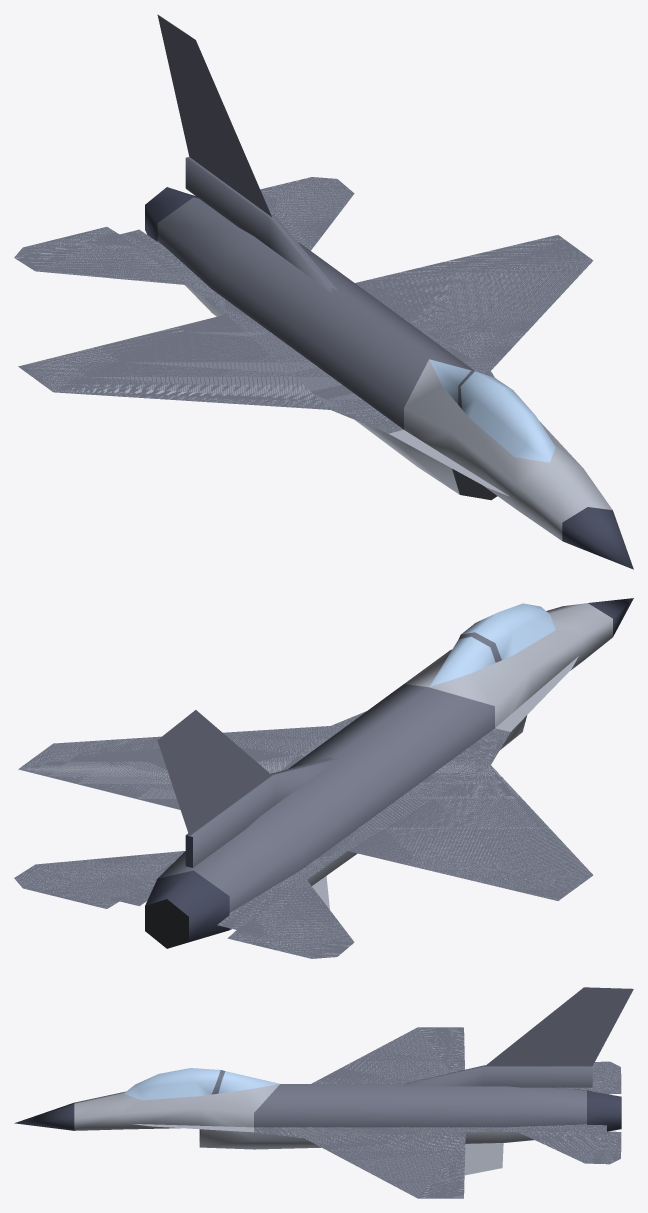
The picture shows the model from 3 angles, top to bottom: view 1: azimuth 30°, elevation 25°; view 2: azimuth 150°, elevation 25°; view 3: azimuth 270°, elevation 25°; orthographic projection. The views are drawn at different scales.
Parts seen in each view (by area): view 1: Plane, Tail; view 2: Plane, Tail; view 3: Plane, Tail.
Part boxes in pixels (x1,y1,x2,y2): Plane: [14, 157, 633, 569]; Tail: [157, 14, 271, 216]; Plane: [14, 598, 633, 958]; Tail: [157, 710, 271, 835]; Plane: [14, 1027, 621, 1198]; Tail: [485, 987, 633, 1066].
Size of the model in its own units: 9.98 by 4.76 by 15.25.
Materials: 1 (1 with a texture image).
